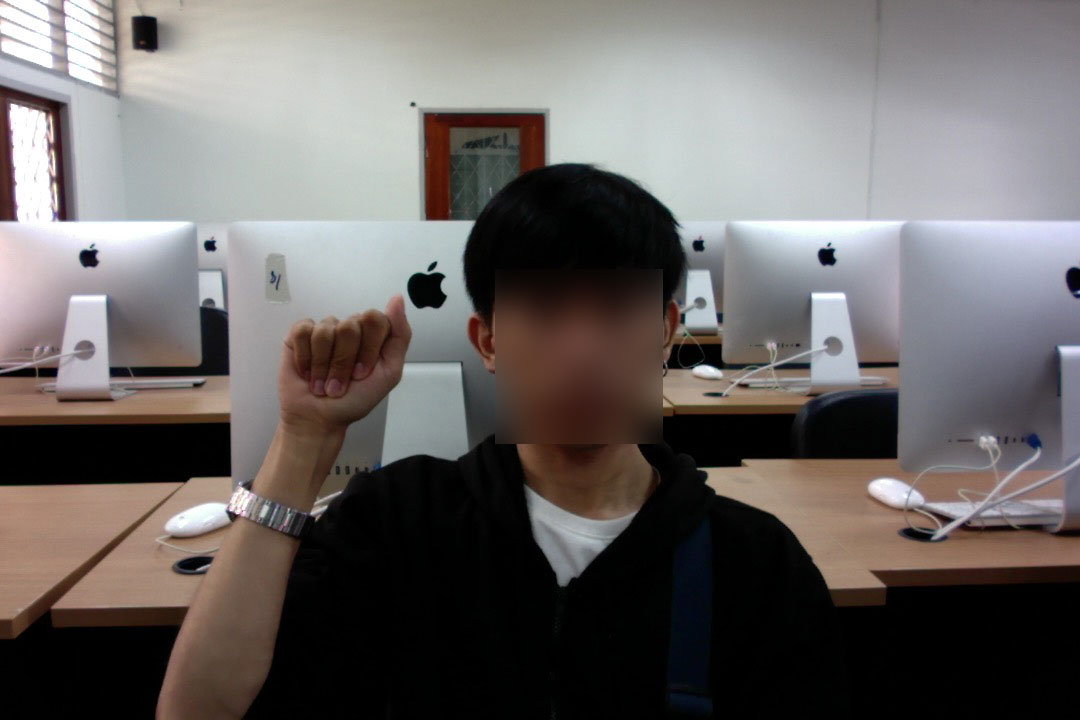or: (262, 291, 424, 462)
